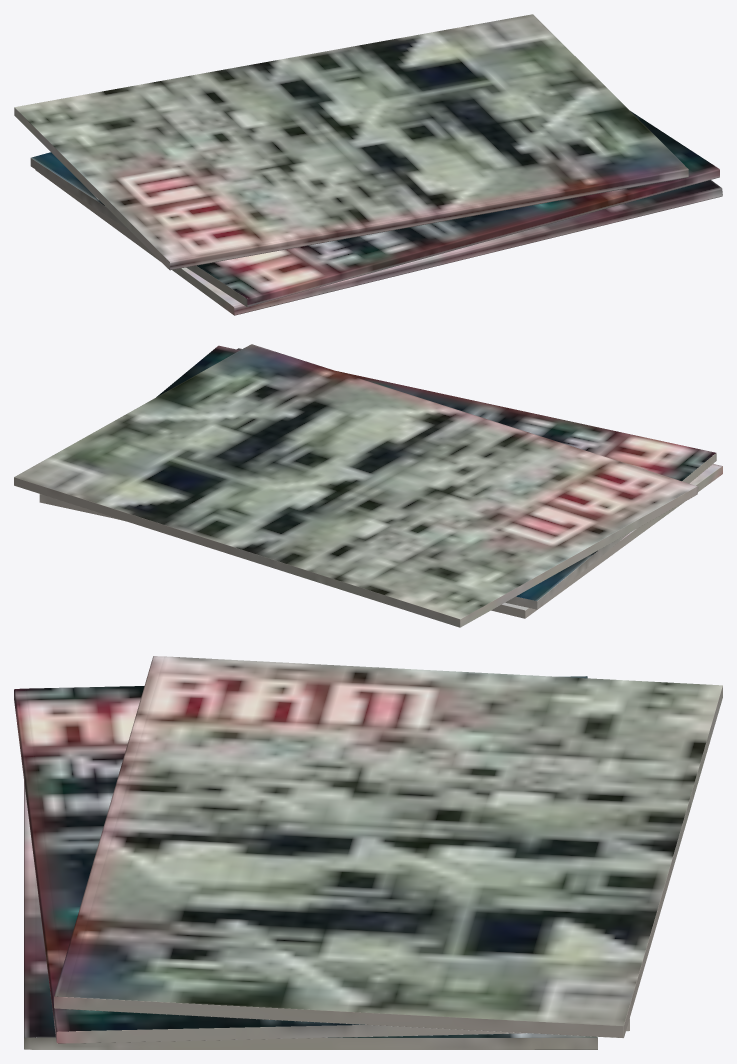
File: SM_BooksPamphlets_B01_N1.glb
The picture shows the model from 3 angles, top to bottom: view 1: azimuth 30°, elevation 25°; view 2: azimuth 150°, elevation 25°; view 3: azimuth 270°, elevation 25°; orthographic projection. The views are drawn at different scales.
Parts seen in each view (by area): view 1: SM_BooksPamphlets_B01_N1; view 2: SM_BooksPamphlets_B01_N1; view 3: SM_BooksPamphlets_B01_N1.
Part boxes in pixels (x1=…): SM_BooksPamphlets_B01_N1: x1=14, y1=14, x2=722, y2=315; SM_BooksPamphlets_B01_N1: x1=14, y1=344, x2=722, y2=627; SM_BooksPamphlets_B01_N1: x1=14, y1=656, x2=722, y2=1049.
Size of the model in its own units: 0.3205 by 0.015 by 0.2592.
1 material, 1 textured.
